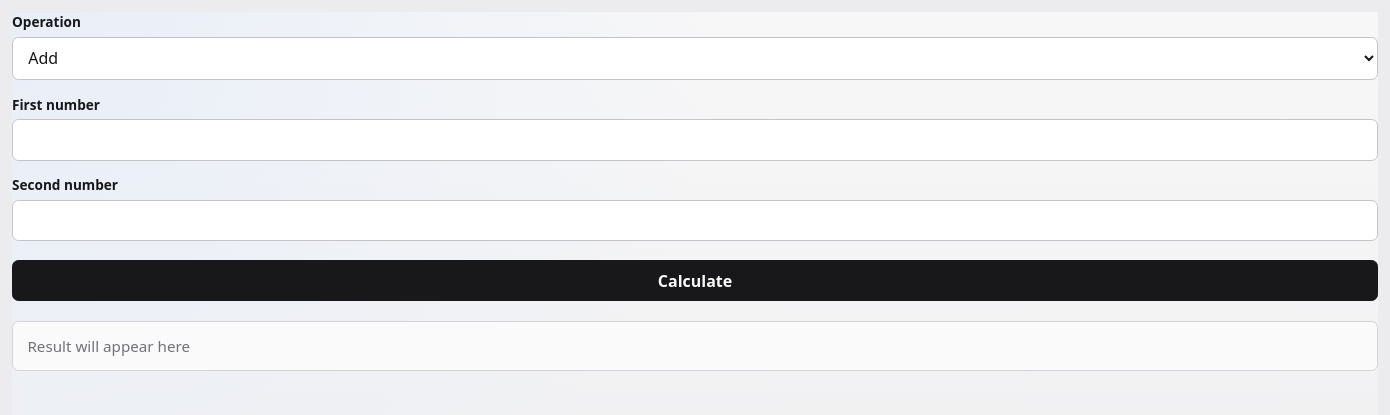
Scenario: Calculator › posts add with { a, b } and renders the result
Type "2" into the field labelled "First number" at (695, 140), box x1=12 y1=119 x2=1378 y2=161
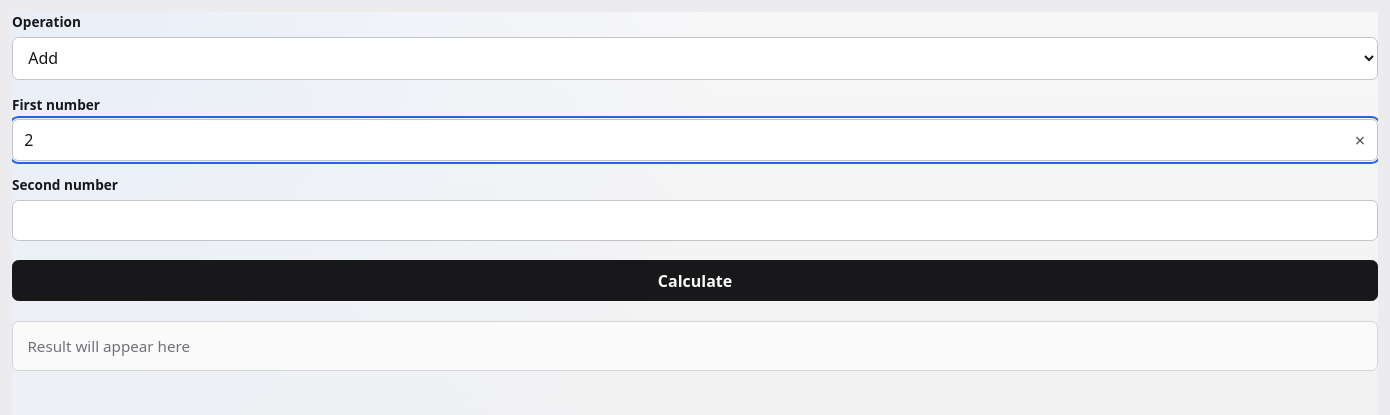
Type "3" into the field labelled "Second number" at (695, 221), box x1=12 y1=200 x2=1378 y2=241
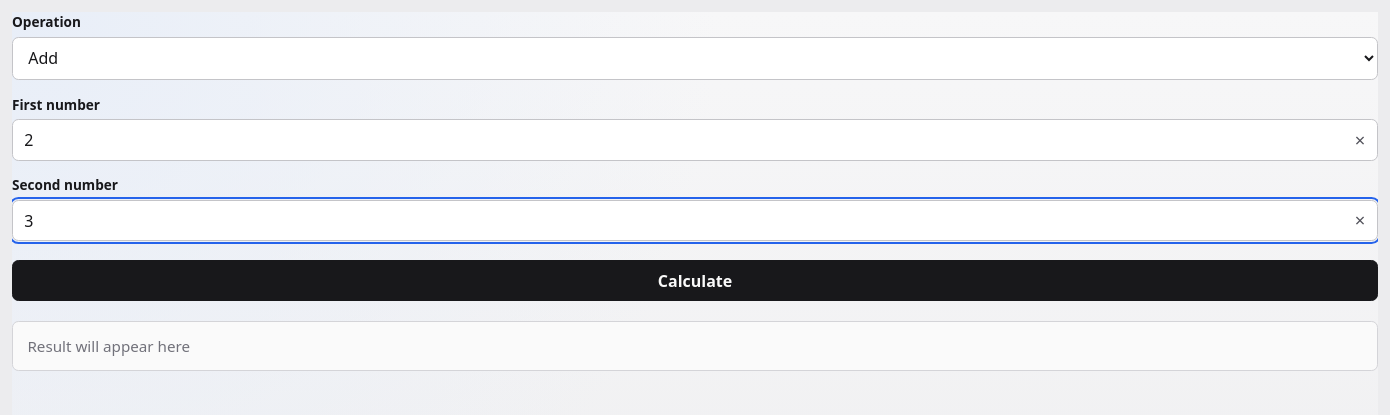
Click the button "Calculate" at (695, 280), box x1=12 y1=260 x2=1378 y2=301
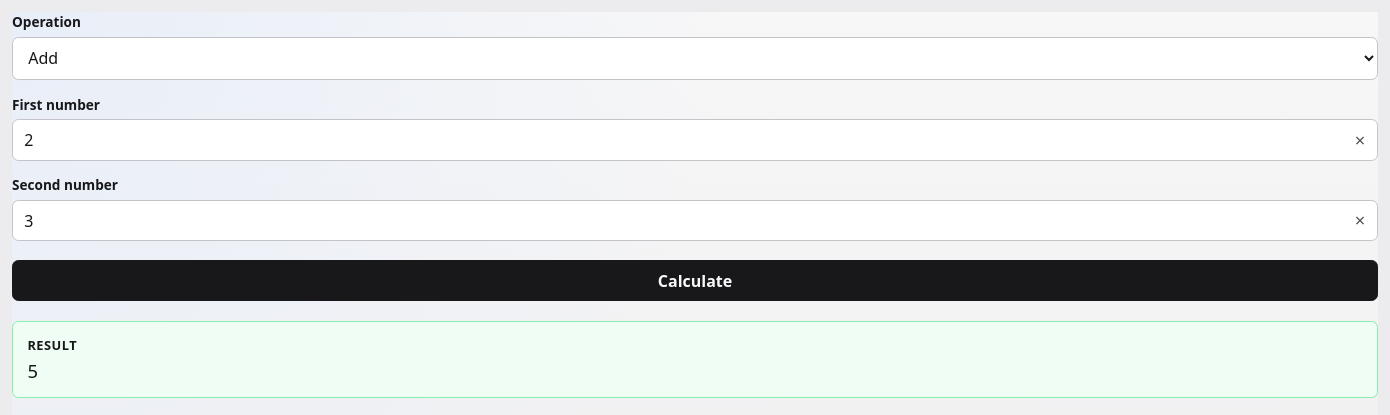
Check: the text "5" is shown, box x1=27 y1=358 x2=38 y2=383
